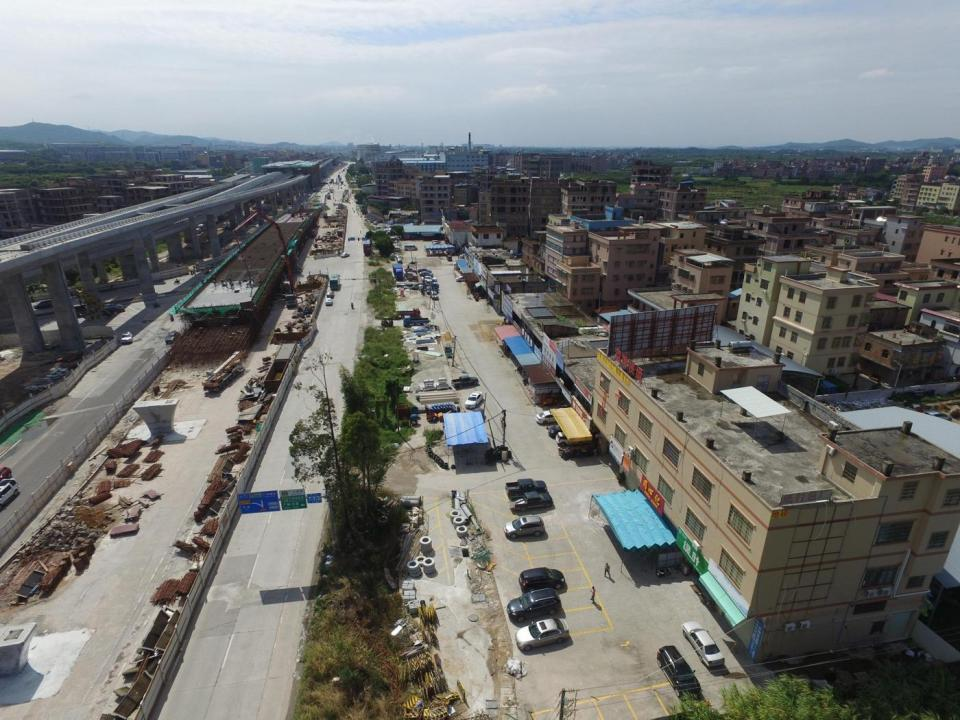bus: (330, 274, 340, 290)
car: (655, 645, 701, 699), (683, 621, 724, 665), (510, 588, 560, 624), (516, 618, 568, 651), (504, 517, 543, 540), (537, 410, 563, 424), (557, 431, 581, 445), (465, 392, 483, 410), (548, 425, 572, 438), (166, 331, 179, 343), (122, 332, 132, 343), (108, 308, 124, 314), (456, 276, 468, 282), (104, 304, 122, 308), (326, 290, 334, 298), (432, 240, 443, 245), (460, 253, 469, 259), (325, 298, 331, 306), (341, 253, 350, 258), (432, 242, 443, 246), (397, 258, 402, 262)
truck: (510, 492, 552, 512), (505, 480, 545, 497), (452, 376, 479, 389), (403, 316, 429, 329), (395, 308, 420, 318), (392, 263, 404, 280), (362, 240, 372, 255), (285, 295, 297, 307)
van: (0, 478, 19, 512), (34, 298, 52, 309), (404, 244, 418, 251), (391, 247, 400, 251), (446, 255, 452, 261), (390, 254, 394, 260)
